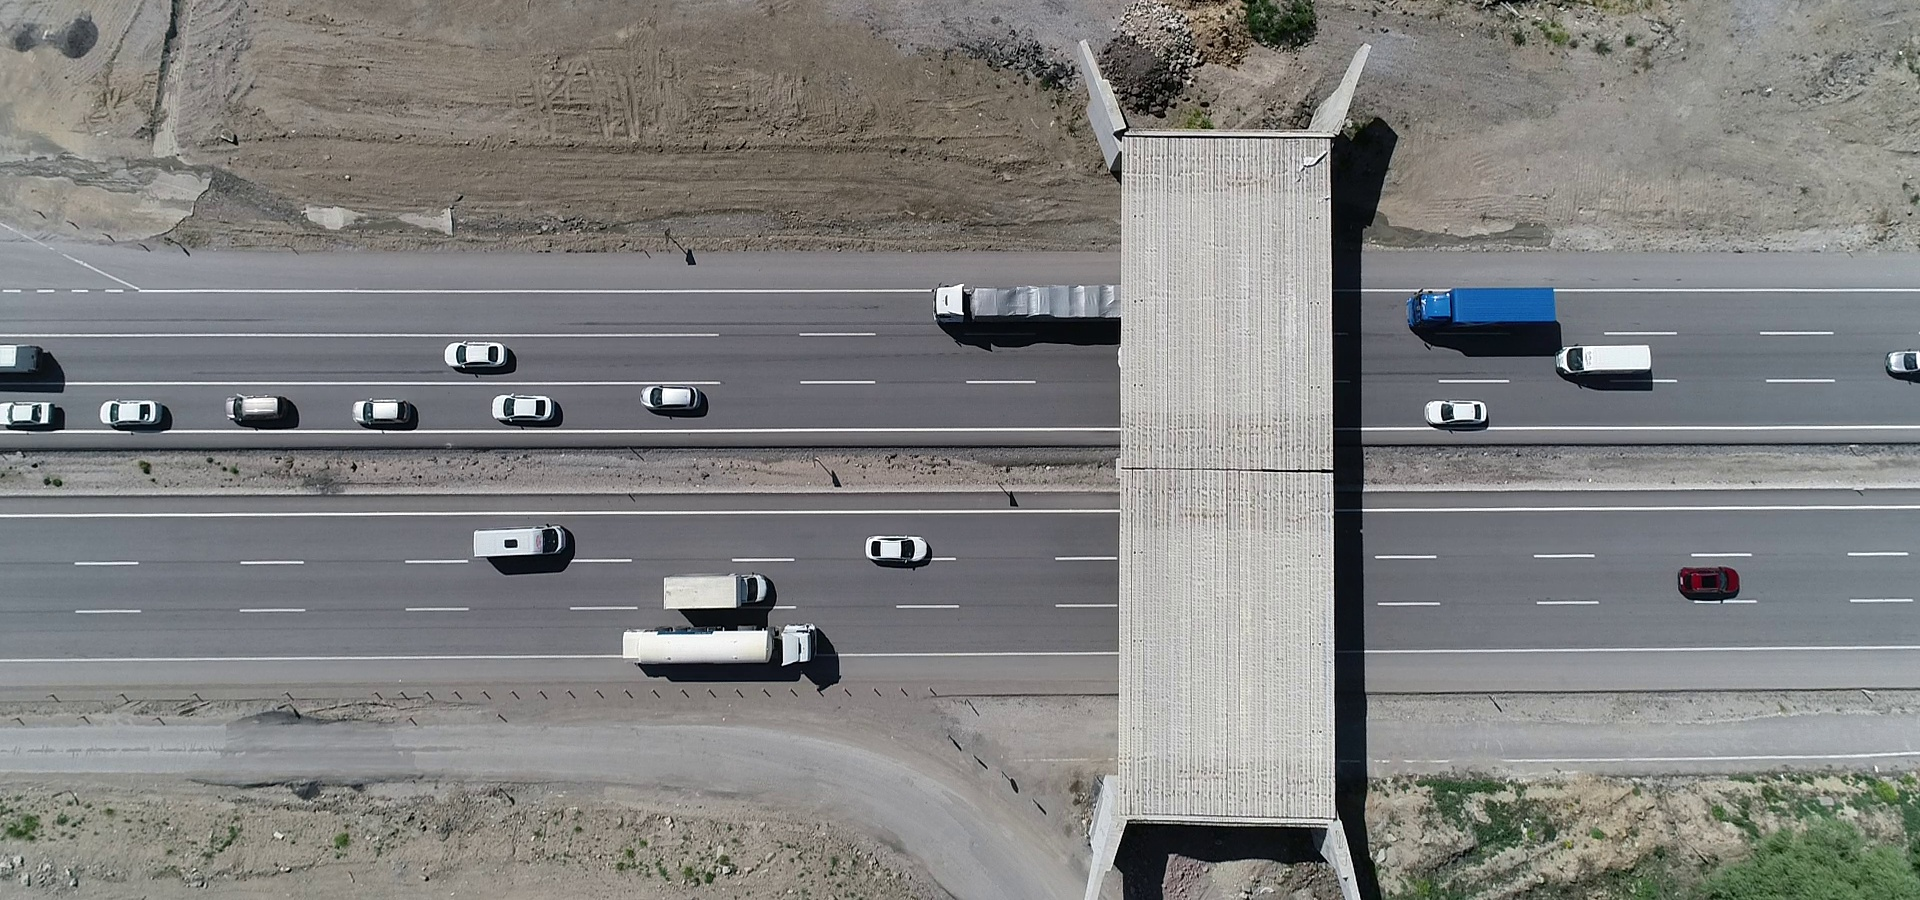araba: (1551, 336, 1669, 387), (469, 517, 584, 564), (1675, 558, 1746, 609), (433, 338, 514, 381), (348, 399, 426, 437), (91, 389, 167, 426), (860, 533, 939, 567), (491, 388, 562, 426), (1427, 396, 1494, 432), (223, 389, 296, 422), (1, 394, 58, 433), (640, 381, 707, 411), (1, 333, 47, 370), (1883, 342, 1920, 377)
kamyon: (617, 617, 827, 680), (928, 276, 1130, 331), (1407, 279, 1564, 337), (651, 564, 775, 617)
